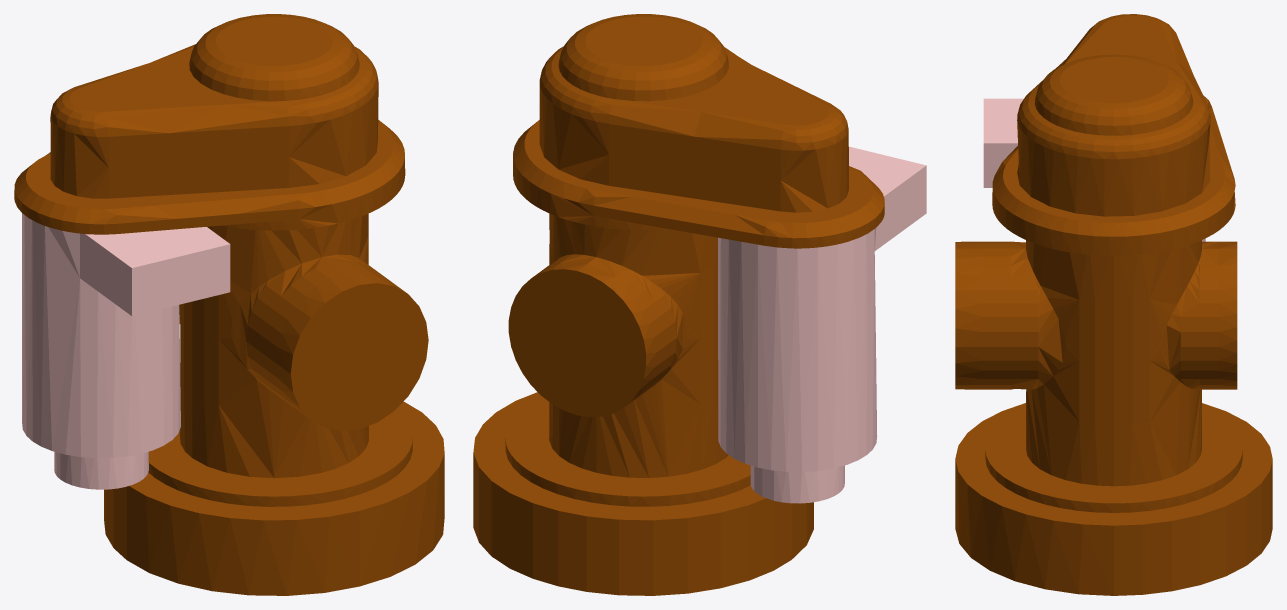
The model's file is RARM_LINK2_mesh.dae.
The picture shows the model from 3 angles, left to right: view 1: azimuth 30°, elevation 25°; view 2: azimuth 150°, elevation 25°; view 3: azimuth 270°, elevation 25°; orthographic projection. The views are drawn at different scales.
Parts seen in each view (by area): view 1: RARM_LINK2 (×2); view 2: RARM_LINK2 (×2); view 3: RARM_LINK2 (×2).
Boxes of the visible parts, x1,y1,x2,y2 form: RARM_LINK2 (×2): [14, 14, 444, 595]; RARM_LINK2 (×2): [473, 14, 926, 595]; RARM_LINK2 (×2): [955, 14, 1272, 595].
Size of the model in its own units: 0.1177 by 0.1405 by 0.09.
